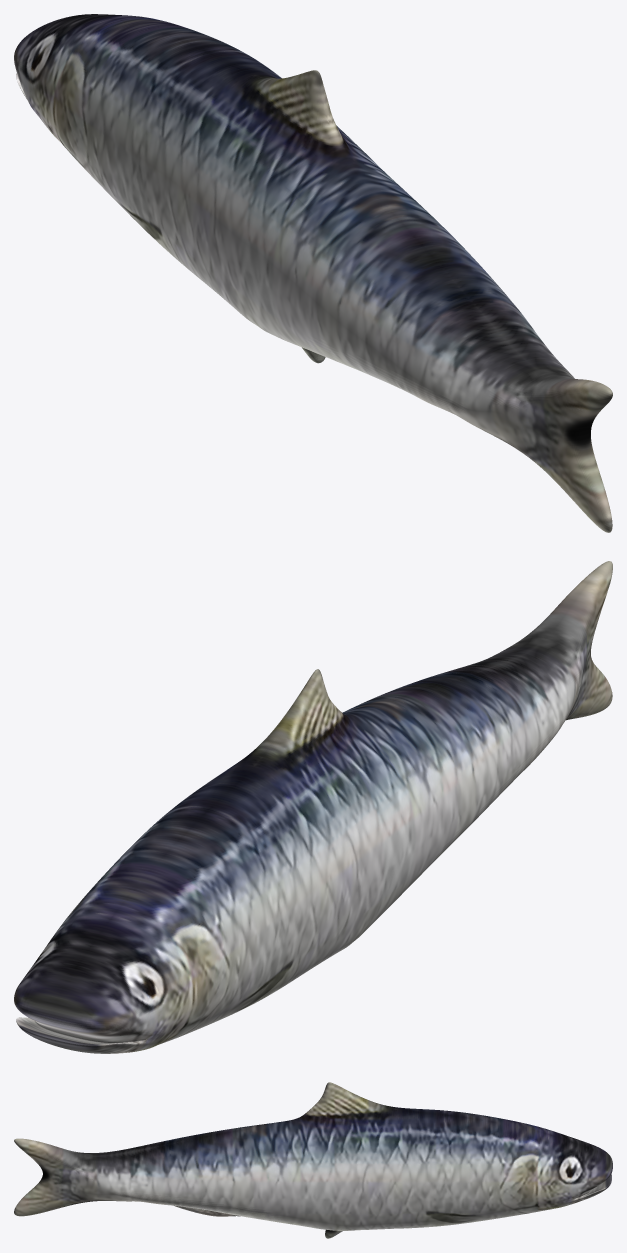
The model's file is sardine.fbx.
The picture shows the model from 3 angles, top to bottom: view 1: azimuth 30°, elevation 25°; view 2: azimuth 150°, elevation 25°; view 3: azimuth 270°, elevation 25°; orthographic projection. The views are drawn at different scales.
Parts seen in each view (by area): view 1: Cube; view 2: Cube; view 3: Cube.
Boxes of the visible parts, x1,y1,x2,y2 form: Cube: [14, 14, 612, 532]; Cube: [14, 561, 612, 1053]; Cube: [14, 1082, 612, 1238].
Bounding box in the file's own units: 70.76 × 137 × 476.
